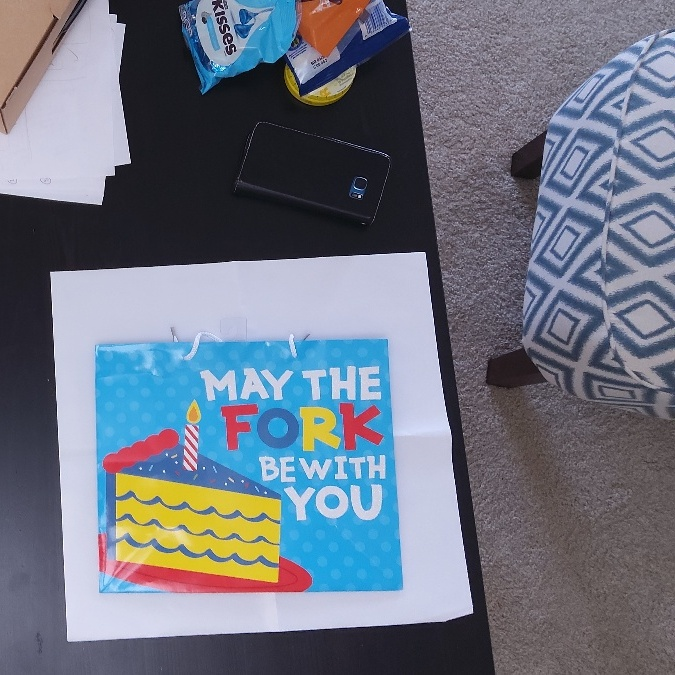paper_bag: (102, 348, 392, 589)
